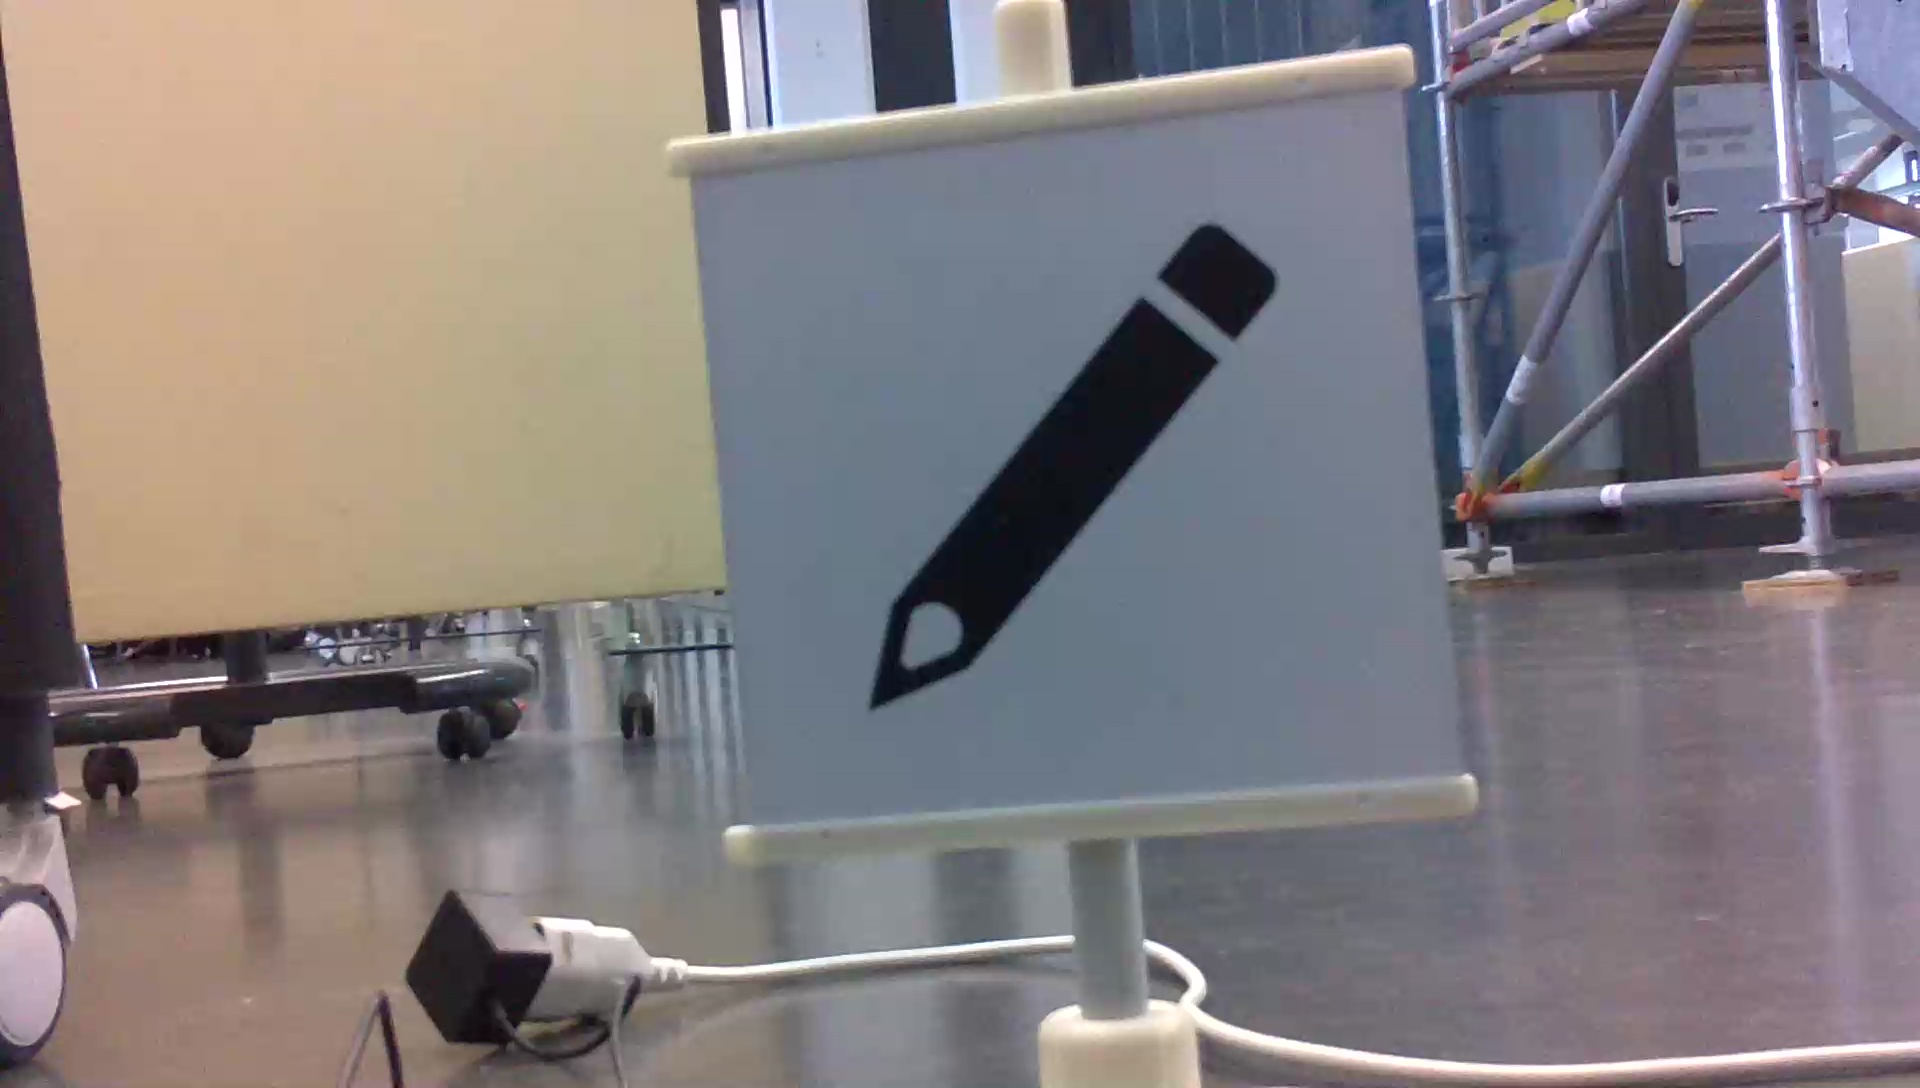pencil: (857, 214, 1298, 727)
